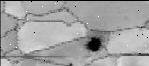good_void: (83, 35, 103, 52)
